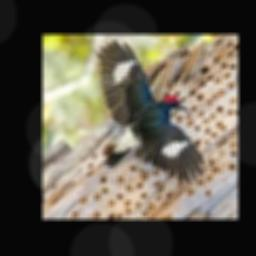Woodpecker: (97, 40, 205, 182)
